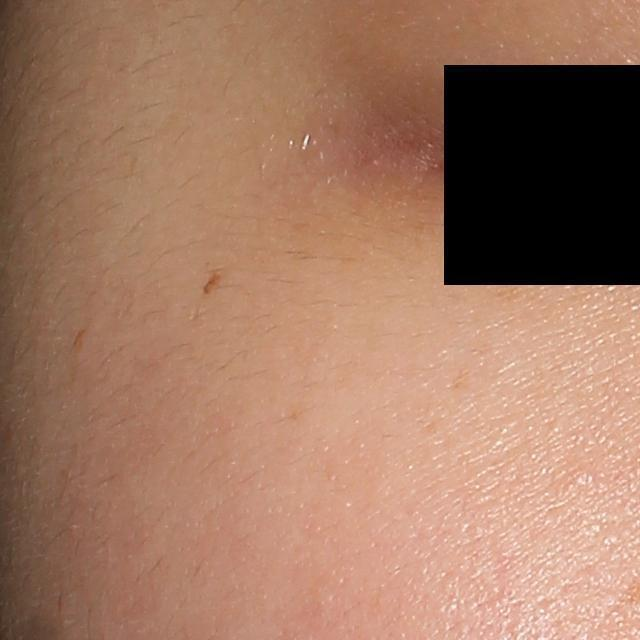nevus: (202, 271, 220, 295)
